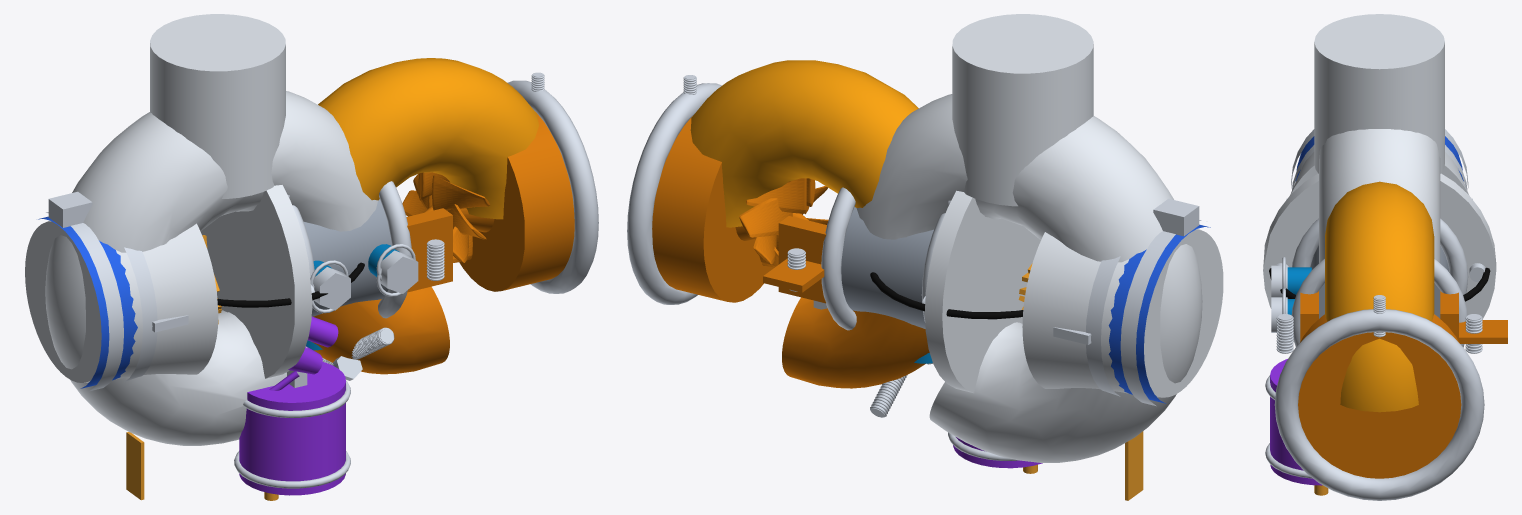
The model's file is turbo_single.glb.
The picture shows the model from 3 angles, left to right: view 1: azimuth 30°, elevation 25°; view 2: azimuth 150°, elevation 25°; view 3: azimuth 270°, elevation 25°; orthographic projection. The views are drawn at different scales.
Parts seen in each view (by area): view 1: Compressor_Volute_Scroll, Inconel_Foil_Turbine_Thermal_Blanket, Compressor_Boost_Outlet_Pipe, Anti_Surge_Ported_Air_Inlet_Snout, Compressor_Seal_Backplate, Turbine_VBand_Exhaust_Flange, DualPort_Wastegate_Canister, Divided_TwinScroll_Turbine_Volute, Turbine_Discharge_VBand_Clamp_Ring, CHRA_Bearing_Center_Housing, Inlet_Coupler_T_Clamp_1, Silicone_Inlet_Coupler_Boot (+12 smaller); view 2: Compressor_Volute_Scroll, Inconel_Foil_Turbine_Thermal_Blanket, Compressor_Boost_Outlet_Pipe, Anti_Surge_Ported_Air_Inlet_Snout, Compressor_Seal_Backplate, Turbine_VBand_Exhaust_Flange, Divided_TwinScroll_Turbine_Volute, CHRA_Bearing_Center_Housing, Turbine_Discharge_VBand_Clamp_Ring, Inlet_Coupler_T_Clamp_1, Silicone_Inlet_Coupler_Boot, CHRA_VBand_Retention_Clamp_Turbine (+9 smaller); view 3: Inconel_Foil_Turbine_Thermal_Blanket, Compressor_Boost_Outlet_Pipe, Turbine_VBand_Exhaust_Flange, Turbine_Discharge_VBand_Clamp_Ring, Compressor_Volute_Scroll, Compressor_Seal_Backplate, CHRA_VBand_Retention_Clamp_Compressor, CHRA_VBand_Retention_Clamp_Turbine, DualPort_Wastegate_Canister, TwinScroll_Internal_Divider_Tongue, Anti_Surge_Ported_Air_Inlet_Snout, Turbine_Manifold_Mount_Foot_B (+13 smaller).
Part boxes in pixels (x1,y1,x2,y2): Compressor_Volute_Scroll: [45, 91, 377, 445]; Inconel_Foil_Turbine_Thermal_Blanket: [318, 58, 538, 219]; Compressor_Boost_Outlet_Pipe: [150, 14, 285, 198]; Anti_Surge_Ported_Air_Inlet_Snout: [25, 220, 218, 382]; Compressor_Seal_Backplate: [200, 185, 312, 378]; Turbine_VBand_Exhaust_Flange: [459, 111, 574, 291]; DualPort_Wastegate_Canister: [239, 362, 345, 495]; Divided_TwinScroll_Turbine_Volute: [312, 286, 449, 374]; Turbine_Discharge_VBand_Clamp_Ring: [507, 80, 598, 293]; CHRA_Bearing_Center_Housing: [303, 199, 391, 316]; Inlet_Coupler_T_Clamp_1: [46, 191, 123, 391]; Silicone_Inlet_Coupler_Boot: [38, 216, 137, 388]; Compressor_Volute_Scroll: [856, 94, 1202, 462]; Inconel_Foil_Turbine_Thermal_Blanket: [690, 60, 918, 227]; Compressor_Boost_Outlet_Pipe: [952, 14, 1093, 206]; Anti_Surge_Ported_Air_Inlet_Snout: [1022, 228, 1223, 397]; Compressor_Seal_Backplate: [925, 190, 1040, 393]; Turbine_VBand_Exhaust_Flange: [652, 116, 774, 302]; Divided_TwinScroll_Turbine_Volute: [782, 181, 929, 388]; CHRA_Bearing_Center_Housing: [841, 206, 933, 328]; Turbine_Discharge_VBand_Clamp_Ring: [627, 83, 721, 304]; Inlet_Coupler_T_Clamp_1: [1120, 198, 1201, 406]; Silicone_Inlet_Coupler_Boot: [1108, 224, 1210, 403]; CHRA_VBand_Retention_Clamp_Turbine: [821, 187, 856, 330]; Inconel_Foil_Turbine_Thermal_Blanket: [1325, 181, 1434, 412]; Compressor_Boost_Outlet_Pipe: [1314, 14, 1444, 173]; Turbine_VBand_Exhaust_Flange: [1298, 314, 1461, 478]; Turbine_Discharge_VBand_Clamp_Ring: [1274, 309, 1484, 500]; Compressor_Volute_Scroll: [1319, 129, 1440, 262]; Compressor_Seal_Backplate: [1263, 173, 1496, 341]; CHRA_VBand_Retention_Clamp_Compressor: [1292, 218, 1468, 294]; CHRA_VBand_Retention_Clamp_Turbine: [1291, 258, 1467, 347]; DualPort_Wastegate_Canister: [1270, 359, 1322, 485]; TwinScroll_Internal_Divider_Tongue: [1459, 320, 1507, 343]; Anti_Surge_Ported_Air_Inlet_Snout: [1290, 152, 1468, 194]; Turbine_Manifold_Mount_Foot_B: [1300, 291, 1318, 341].
Size of the model in its own units: 0.3695 by 0.3096 by 0.1634.
